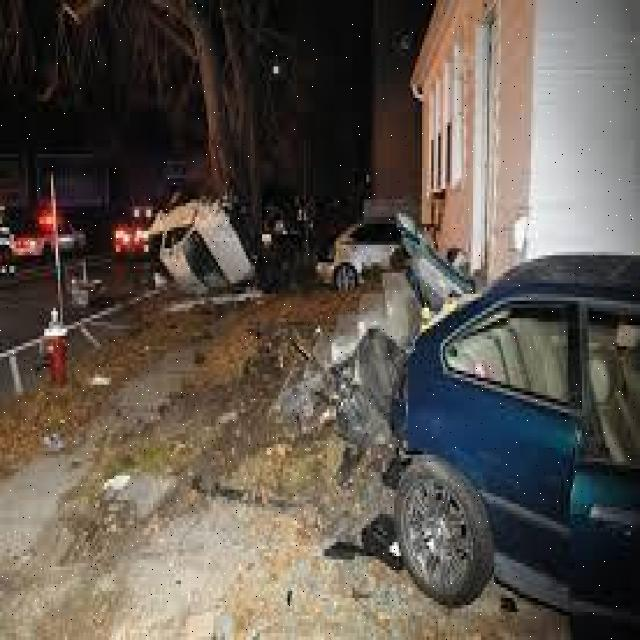severe: (134, 182, 266, 297), (314, 203, 451, 294)
